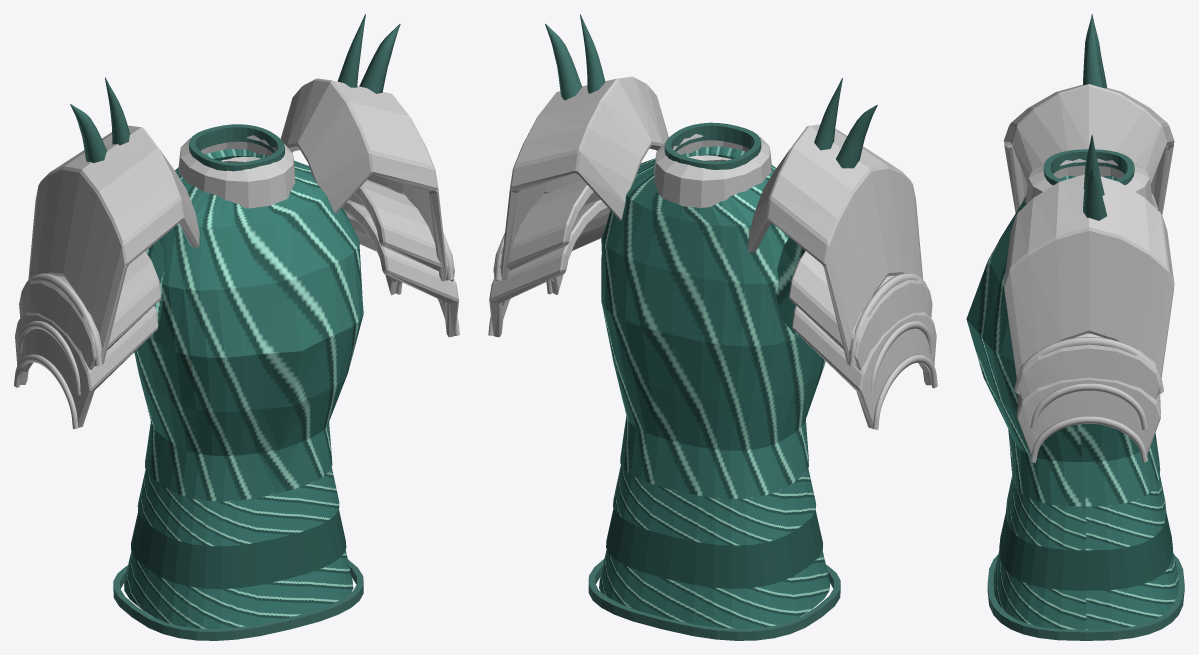
File: adamant_armor.obj
3 views of the same model, side by side, from view 1: azimuth 30°, elevation 25°; view 2: azimuth 150°, elevation 25°; view 3: azimuth 270°, elevation 25° (orthographic). The views are drawn at different scales.
Parts seen in each view (by area): view 1: A_Torso.001_adamant_armor_body, K_CrowningShoulder.001_adamant_armor_shoulder_shell, K_OverlappingLame0.001_adamant_armor_shoulder_shell, D_Skirt1.001_adamant_armor_shade, D_Skirt2.001_adamant_armor_body, D_Skirt0.001_adamant_armor_body, K_OverlappingLame1.001_adamant_armor_shoulder_overlap, H_Gorget.001_adamant_armor_body, B_HemTrim.001_adamant_armor_trim, B_NeckTrim.001_adamant_armor_trim, K_CrestHorn1.001_adamant_armor_trim, K_CrestHorn0.001_adamant_armor_trim (+3 smaller); view 2: A_Torso.001_adamant_armor_body, K_CrowningShoulder.001_adamant_armor_shoulder_shell, K_OverlappingLame0.001_adamant_armor_shoulder_shell, D_Skirt1.001_adamant_armor_shade, D_Skirt2.001_adamant_armor_body, D_Skirt0.001_adamant_armor_body, K_OverlappingLame1.001_adamant_armor_shoulder_overlap, H_Gorget.001_adamant_armor_body, B_HemTrim.001_adamant_armor_trim, B_NeckTrim.001_adamant_armor_trim, K_CrestHorn1.001_adamant_armor_trim, K_CrestHorn0.001_adamant_armor_trim (+3 smaller); view 3: K_CrowningShoulder.001_adamant_armor_shoulder_shell, A_Torso.001_adamant_armor_body, D_Skirt2.001_adamant_armor_body, D_Skirt1.001_adamant_armor_shade, D_Skirt0.001_adamant_armor_body, K_OverlappingLame1.001_adamant_armor_shoulder_overlap, K_OverlappingLame0.001_adamant_armor_shoulder_shell, B_HemTrim.001_adamant_armor_trim, H_Gorget.001_adamant_armor_body, B_NeckTrim.001_adamant_armor_trim, K_CrestHorn0.001_adamant_armor_trim, K_LameLip1.001_adamant_armor_shoulder_overlap (+3 smaller).
Boxes of the visible parts, box(x1,y1,x2,y2) form: A_Torso.001_adamant_armor_body: box(134, 148, 363, 501); K_CrowningShoulder.001_adamant_armor_shoulder_shell: box(28, 78, 447, 364); K_OverlappingLame0.001_adamant_armor_shoulder_shell: box(19, 179, 454, 369); D_Skirt1.001_adamant_armor_shade: box(131, 509, 346, 589); D_Skirt2.001_adamant_armor_body: box(124, 550, 353, 628); D_Skirt0.001_adamant_armor_body: box(137, 467, 339, 546); K_OverlappingLame1.001_adamant_armor_shoulder_overlap: box(15, 200, 458, 427); H_Gorget.001_adamant_armor_body: box(178, 135, 295, 208); B_HemTrim.001_adamant_armor_trim: box(113, 559, 363, 640); B_NeckTrim.001_adamant_armor_trim: box(189, 124, 284, 171); K_CrestHorn1.001_adamant_armor_trim: box(70, 24, 400, 163); K_CrestHorn0.001_adamant_armor_trim: box(105, 14, 365, 145); A_Torso.001_adamant_armor_body: box(601, 146, 825, 499); K_CrowningShoulder.001_adamant_armor_shoulder_shell: box(501, 76, 923, 364); K_OverlappingLame0.001_adamant_armor_shoulder_shell: box(493, 178, 932, 370); D_Skirt1.001_adamant_armor_shade: box(606, 508, 822, 588); D_Skirt2.001_adamant_armor_body: box(599, 549, 829, 628); D_Skirt0.001_adamant_armor_body: box(613, 465, 816, 545); K_OverlappingLame1.001_adamant_armor_shoulder_overlap: box(489, 199, 936, 428); H_Gorget.001_adamant_armor_body: box(654, 134, 771, 207); B_HemTrim.001_adamant_armor_trim: box(588, 559, 840, 640); B_NeckTrim.001_adamant_armor_trim: box(664, 122, 761, 169); K_CrestHorn1.001_adamant_armor_trim: box(545, 23, 877, 168); K_CrestHorn0.001_adamant_armor_trim: box(580, 14, 842, 150); K_CrowningShoulder.001_adamant_armor_shoulder_shell: box(1003, 84, 1174, 377); A_Torso.001_adamant_armor_body: box(966, 175, 1160, 506); D_Skirt2.001_adamant_armor_body: box(993, 551, 1178, 629); D_Skirt1.001_adamant_armor_shade: box(999, 512, 1172, 590); D_Skirt0.001_adamant_armor_body: box(1006, 474, 1166, 550); K_OverlappingLame1.001_adamant_armor_shoulder_overlap: box(1017, 377, 1160, 454); K_OverlappingLame0.001_adamant_armor_shoulder_shell: box(1017, 194, 1160, 399); B_HemTrim.001_adamant_armor_trim: box(987, 554, 1184, 640); H_Gorget.001_adamant_armor_body: box(1025, 158, 1152, 203); B_NeckTrim.001_adamant_armor_trim: box(1043, 149, 1134, 185); K_CrestHorn0.001_adamant_armor_trim: box(1083, 14, 1104, 195); K_LameLip1.001_adamant_armor_shoulder_overlap: box(1030, 416, 1147, 462).
Size of the model in its own units: 2.53 by 3.39 by 1.3.
